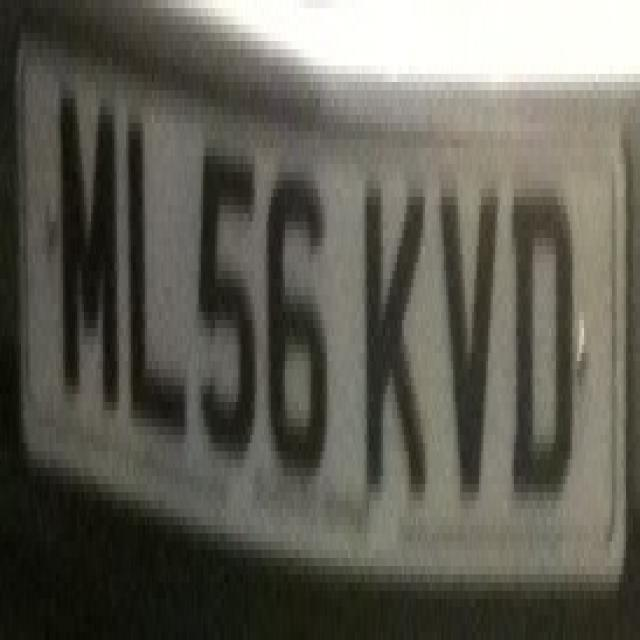licenseplate: (6, 6, 628, 618)
